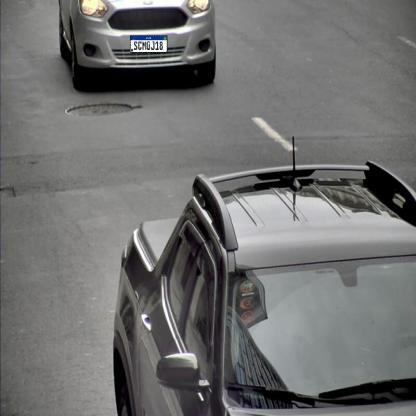PlacaM: (130, 35, 167, 53)
